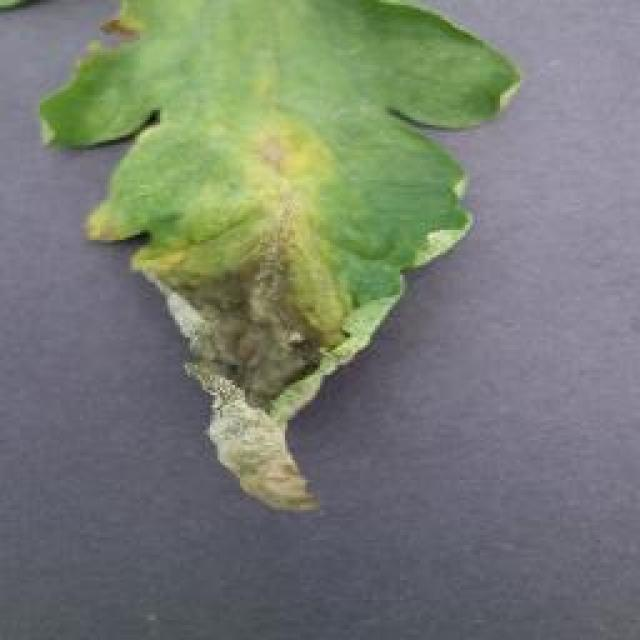Tomato late blight leaf: (36, 0, 531, 512)
